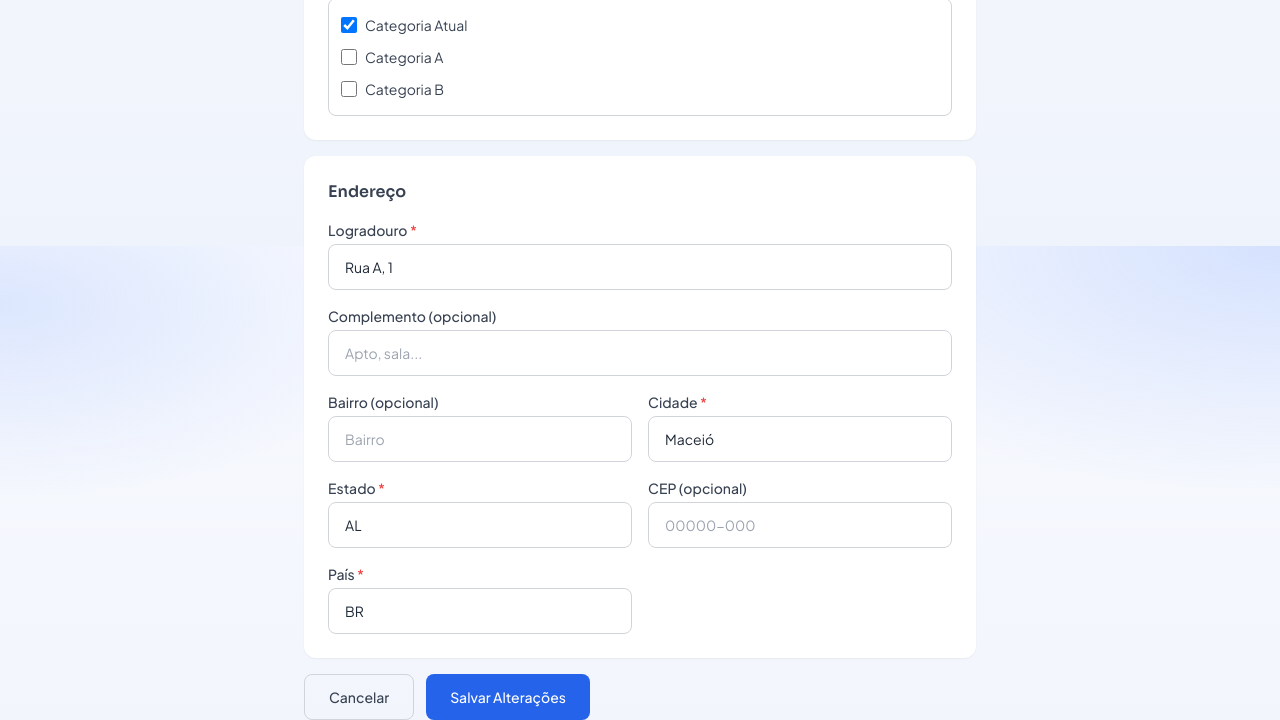
Scenario: PartitionEditPage › GlobalAdmin › opens confirmation modal on save click
(page scrolled)
Click the button "Salvar Alterações": click(508, 697) [426, 674, 590, 719]
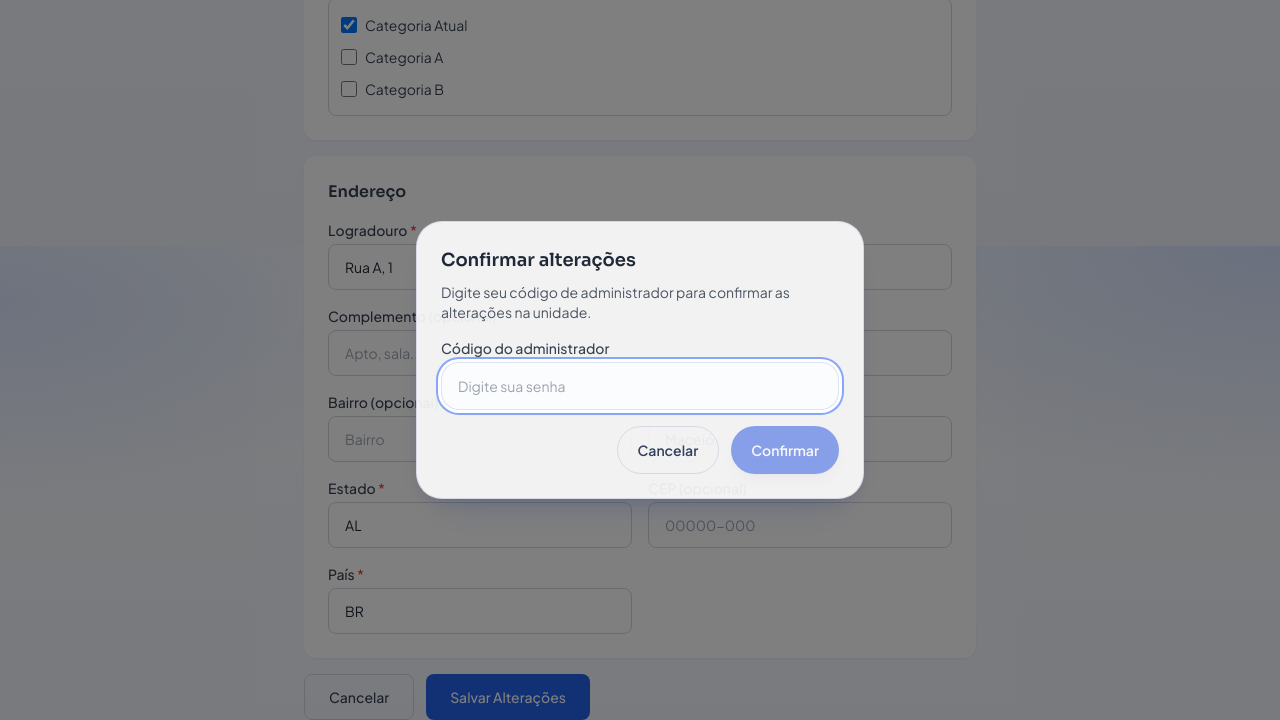
Result: the dialog is shown
